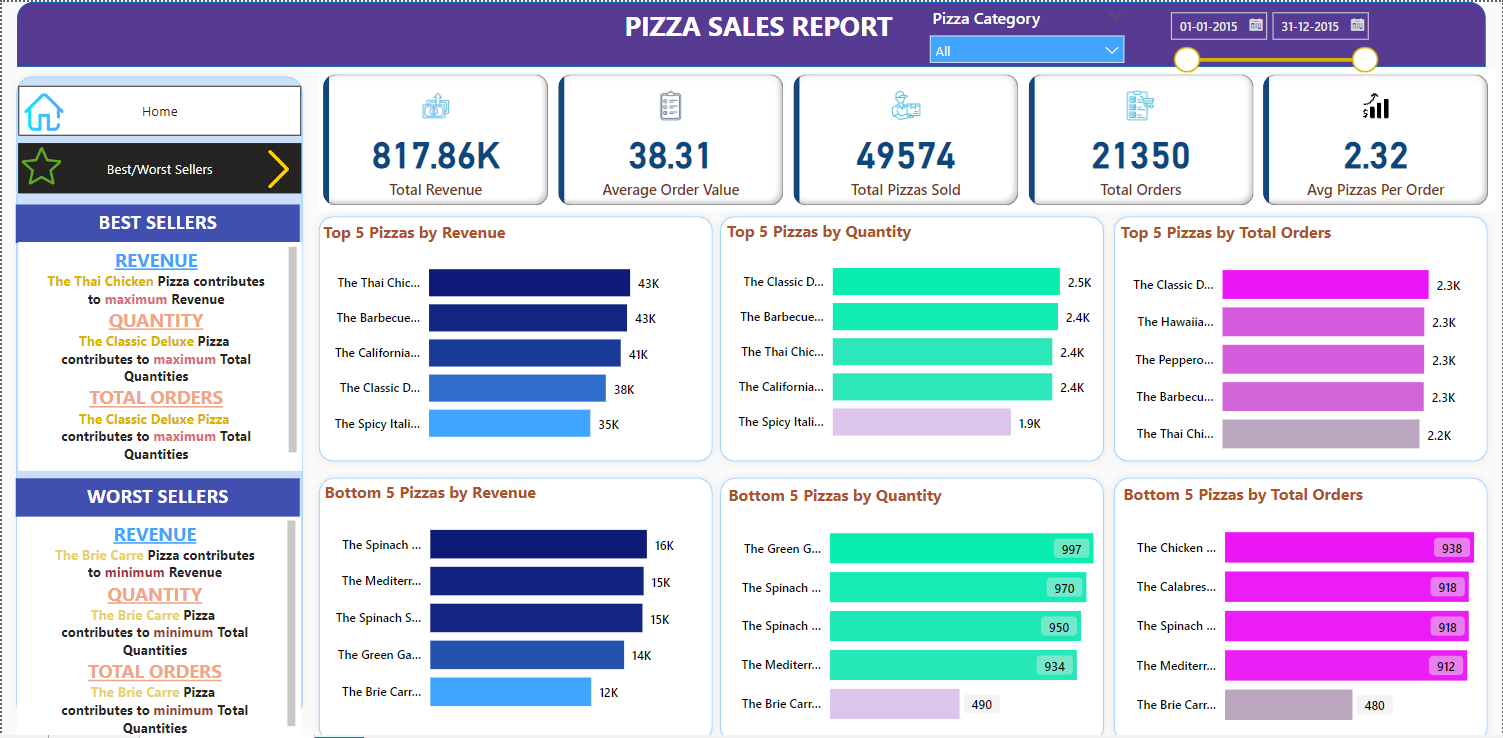

Layout of this report page (visuals, bound fields, positions):
{"tool":"powerbi","page":{"name":"Best/Worst Sellers","canvas":[1500,800],"ordinal":1},"visuals":[{"type":"cardVisual","fields":{"Data":["pizza_sales.Total Revenue","pizza_sales.Average Order Value","pizza_sales.Total Pizzas Sold","pizza_sales.Total Orders","pizza_sales.Avg Pizzas Per Order"]},"box":[316.2,67.5,1177.5,141.2],"z":0},{"type":"shape","box":[15,0,1468.8,65],"z":1000},{"type":"textbox","box":[617.5,0,310,53.8],"z":2000},{"type":"shape","box":[308.8,206.2,410,261.2],"z":3000},{"type":"shape","box":[6.2,66.2,302.5,658.8],"z":12000},{"type":"textbox","box":[13.8,202.5,283.8,38.8],"z":14000},{"type":"textbox","box":[15,513.8,283.8,228.8],"z":15000},{"type":"slicer","fields":{"Values":["pizza_sales.pizza_category"]},"box":[917.5,0,215,65],"z":18000},{"type":"slicer","fields":{"Values":["pizza_sales.order_date"]},"box":[1156.2,0,227.5,76.2],"z":19000},{"type":"shape","box":[710,206.2,400,261.2],"z":19001},{"type":"shape","box":[1103.8,206.2,390,261.2],"z":19002},{"type":"shape","box":[308.8,467.5,410,281.2],"z":19003},{"type":"shape","box":[710,467.5,400,281.2],"z":19004},{"type":"shape","box":[1103.8,467.5,390,281.2],"z":19005},{"type":"barChart","title":"Top 5 Pizzas by Revenue","fields":{"Category":["pizza_sales.pizza_name"],"Y":["pizza_sales.Total Revenue"]},"box":[316.2,218.8,393.8,236.2],"z":19006},{"type":"barChart","title":"Bottom 5 Pizzas by Revenue","fields":{"Category":["pizza_sales.pizza_name"],"Y":["pizza_sales.Total Revenue"]},"box":[317.5,478.8,393.8,246.2],"z":19007},{"type":"barChart","title":"Top 5 Pizzas by Quantity","fields":{"Category":["pizza_sales.pizza_name"],"Y":["pizza_sales.Total Pizzas Sold"]},"box":[720,217.5,393.8,236.2],"z":19008},{"type":"barChart","title":"Bottom 5 Pizzas by Quantity","fields":{"Category":["pizza_sales.pizza_name"],"Y":["pizza_sales.Total Pizzas Sold"]},"box":[721.2,481.2,376.2,257.5],"z":19009},{"type":"barChart","title":"Top 5 Pizzas by Total Orders","fields":{"Category":["pizza_sales.pizza_name"],"Y":["pizza_sales.Total Orders"]},"box":[1113.8,218.8,377.5,248.8],"z":19010},{"type":"barChart","title":"Bottom 5 Pizzas by Total Orders","fields":{"Category":["pizza_sales.pizza_name"],"Y":["pizza_sales.Total Orders"]},"box":[1116.2,480,377.5,260],"z":19011},{"type":"textbox","box":[13.8,476.2,283.8,38.8],"z":19012},{"type":"textbox","box":[16.2,240,283.8,228.8],"z":19014},{"type":"pageNavigator","box":[16.2,141.2,283.8,50],"z":19015},{"type":"pageNavigator","box":[16.2,83.8,283.8,50],"z":19016},{"type":"image","box":[236.2,142.5,80,48.8],"z":19017},{"type":"image","box":[17.5,82.5,48.8,55],"z":19018},{"type":"image","box":[15,136.2,48.8,55],"z":19019}]}

Visuals, with their boxes on the page's 1500x800 design canvas (x1, y1, x2, y2). These are canvas units, not pixel positions in the 1503x738 screenshot, which may show the page scaled, cropped or inside an application window:
cardVisual - pizza_sales.Total Revenue x pizza_sales.Average Order Value: {"x1": 316, "y1": 68, "x2": 1494, "y2": 209}
shape: {"x1": 15, "y1": 0, "x2": 1484, "y2": 65}
textbox: {"x1": 618, "y1": 0, "x2": 928, "y2": 54}
shape: {"x1": 309, "y1": 206, "x2": 719, "y2": 467}
shape: {"x1": 6, "y1": 66, "x2": 309, "y2": 725}
textbox: {"x1": 14, "y1": 202, "x2": 298, "y2": 241}
textbox: {"x1": 15, "y1": 514, "x2": 299, "y2": 743}
slicer - pizza_sales.pizza_category: {"x1": 918, "y1": 0, "x2": 1132, "y2": 65}
slicer - pizza_sales.order_date: {"x1": 1156, "y1": 0, "x2": 1384, "y2": 76}
shape: {"x1": 710, "y1": 206, "x2": 1110, "y2": 467}
shape: {"x1": 1104, "y1": 206, "x2": 1494, "y2": 467}
shape: {"x1": 309, "y1": 468, "x2": 719, "y2": 749}
shape: {"x1": 710, "y1": 468, "x2": 1110, "y2": 749}
shape: {"x1": 1104, "y1": 468, "x2": 1494, "y2": 749}
"Top 5 Pizzas by Revenue" barChart: {"x1": 316, "y1": 219, "x2": 710, "y2": 455}
"Bottom 5 Pizzas by Revenue" barChart: {"x1": 318, "y1": 479, "x2": 711, "y2": 725}
"Top 5 Pizzas by Quantity" barChart: {"x1": 720, "y1": 218, "x2": 1114, "y2": 454}
"Bottom 5 Pizzas by Quantity" barChart: {"x1": 721, "y1": 481, "x2": 1097, "y2": 739}
"Top 5 Pizzas by Total Orders" barChart: {"x1": 1114, "y1": 219, "x2": 1491, "y2": 468}
"Bottom 5 Pizzas by Total Orders" barChart: {"x1": 1116, "y1": 480, "x2": 1494, "y2": 740}
textbox: {"x1": 14, "y1": 476, "x2": 298, "y2": 515}
textbox: {"x1": 16, "y1": 240, "x2": 300, "y2": 469}
pageNavigator: {"x1": 16, "y1": 141, "x2": 300, "y2": 191}
pageNavigator: {"x1": 16, "y1": 84, "x2": 300, "y2": 134}
image: {"x1": 236, "y1": 142, "x2": 316, "y2": 191}
image: {"x1": 18, "y1": 82, "x2": 66, "y2": 138}
image: {"x1": 15, "y1": 136, "x2": 64, "y2": 191}
